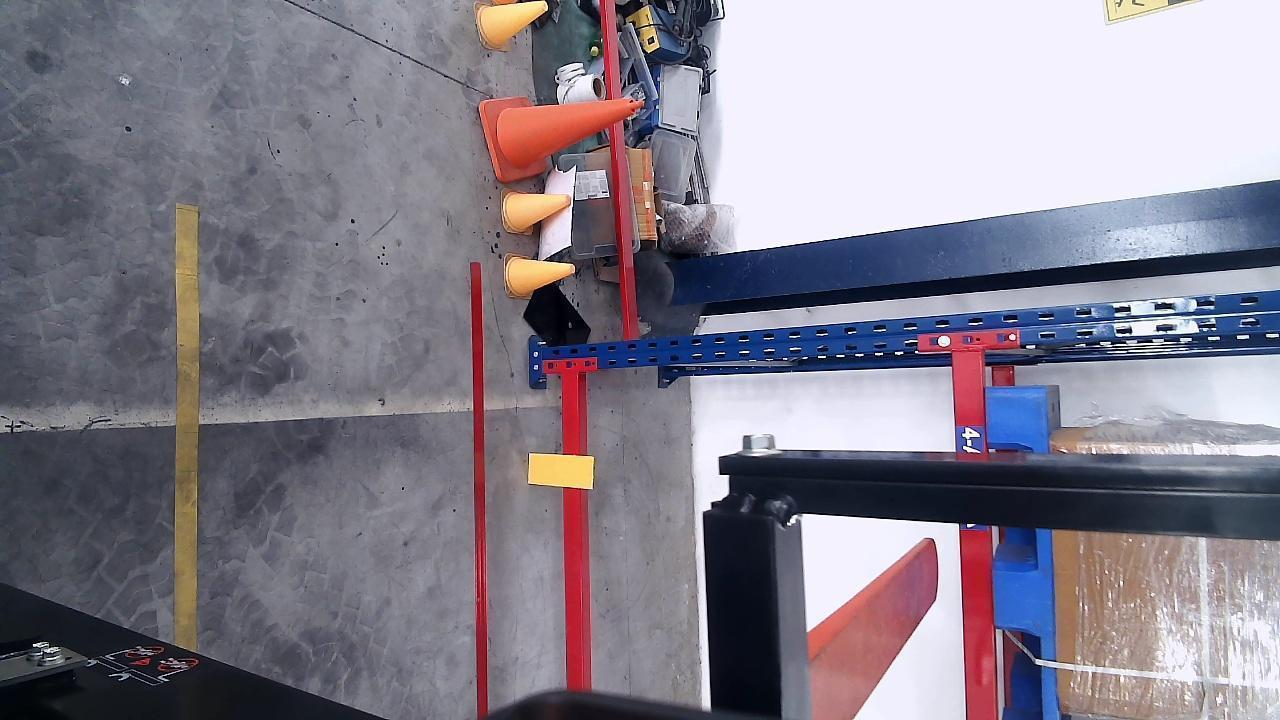red_line: (470, 261, 492, 716)
yellow_line: (175, 202, 199, 650)
